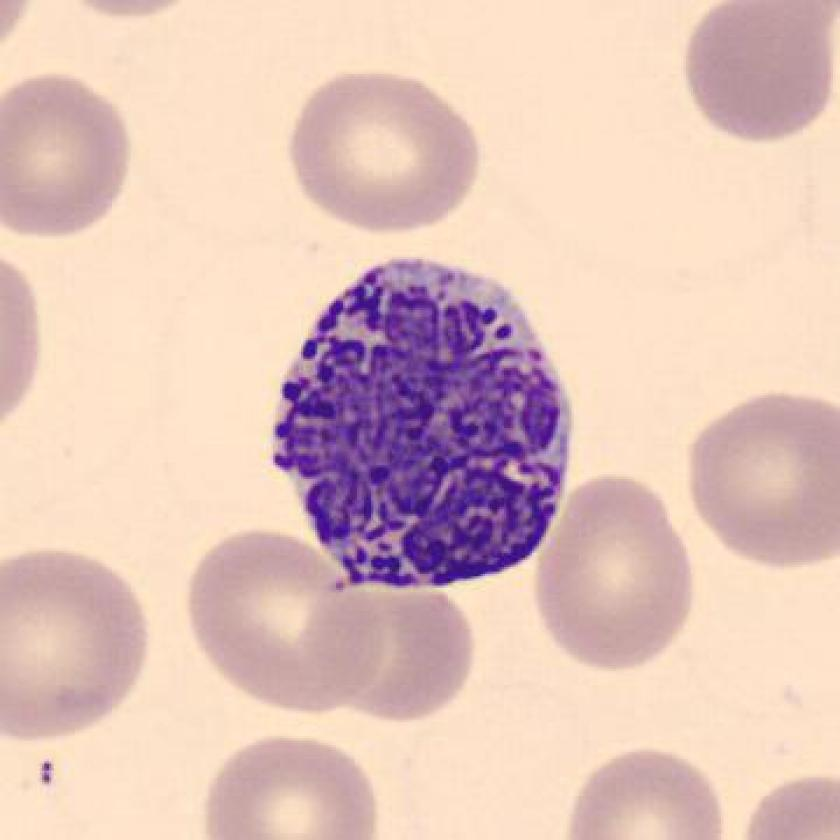basophil: (260, 232, 587, 605)
